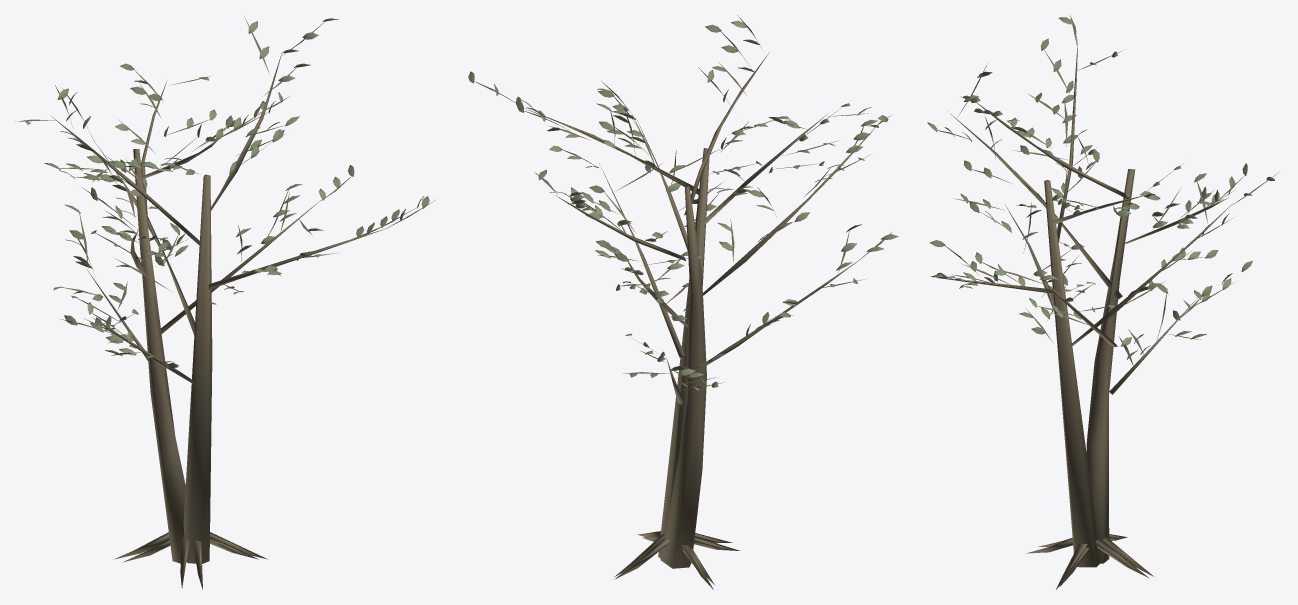
Rendered from Oleastre_1_LOD2.fbx.
3 views of the same model, side by side, from view 1: azimuth 30°, elevation 25°; view 2: azimuth 150°, elevation 25°; view 3: azimuth 270°, elevation 25° (orthographic). The views are drawn at different scales.
Visible parts, largest first — view 1: Oleastre_1_LOD2; view 2: Oleastre_1_LOD2; view 3: Oleastre_1_LOD2.
Part boxes in pixels (bbox=[...]): Oleastre_1_LOD2: bbox=[15, 16, 435, 589]; Oleastre_1_LOD2: bbox=[468, 15, 898, 589]; Oleastre_1_LOD2: bbox=[927, 15, 1278, 589].
Size of the model in its own units: 339 by 444 by 304.
